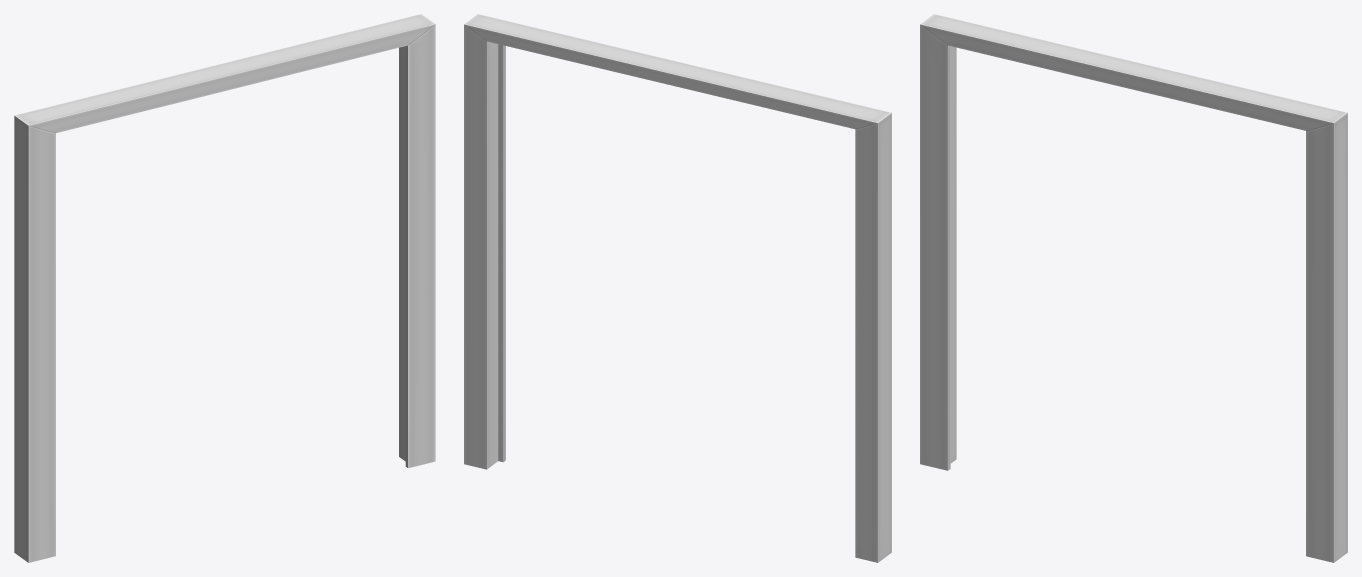
The model's file is Door.fbx.
3 renders of one model, left to right at view 1: azimuth 30°, elevation 25°; view 2: azimuth 150°, elevation 25°; view 3: azimuth 330°, elevation 25°, orthographic.
Visible parts, largest first — view 1: Frame; view 2: Frame; view 3: Frame.
Part boxes in pixels (<box>): Frame: <box>14,14,435,562</box>; Frame: <box>464,14,891,562</box>; Frame: <box>920,14,1347,562</box>.
Size of the model in its own units: 52.85 by 53.91 by 3.67.
